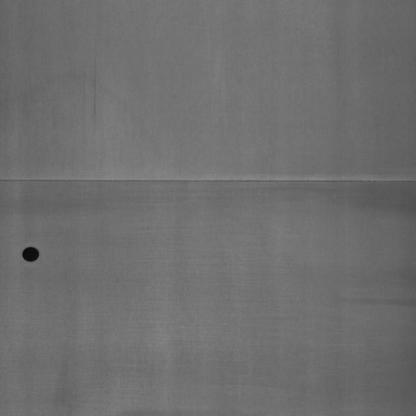punching_hole: (21, 240, 49, 268)
welding_line: (2, 168, 416, 196)
